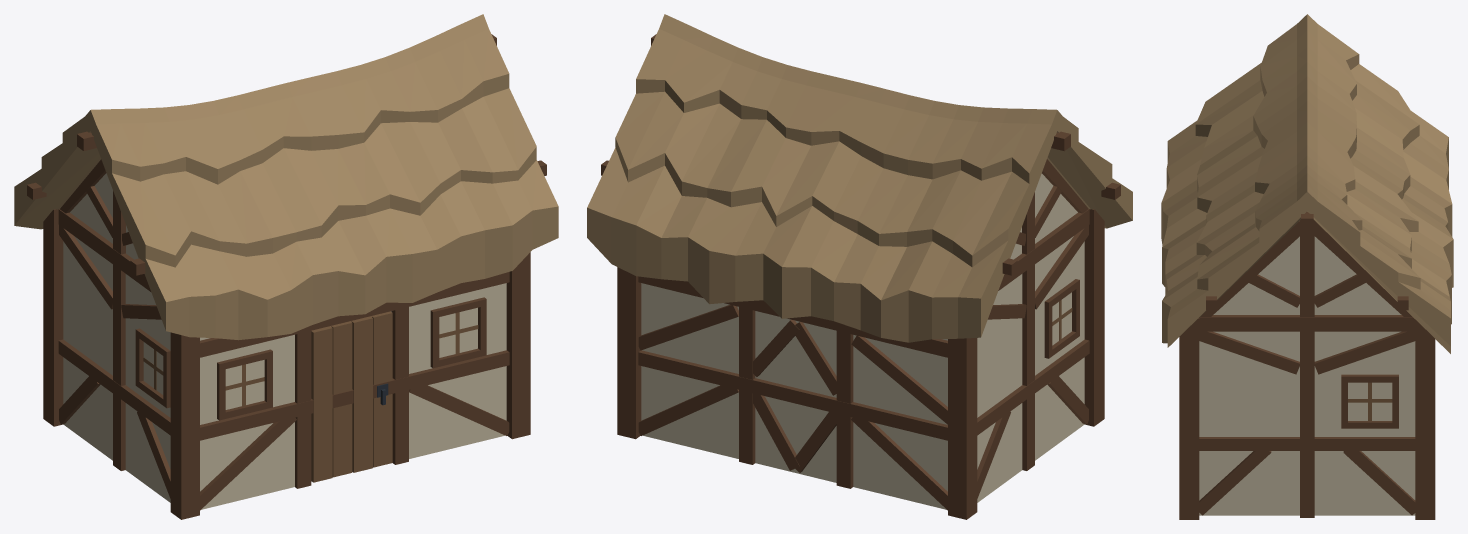
The model's file is thatched-cottage.glb.
3 views of the same model, side by side, from view 1: azimuth 30°, elevation 25°; view 2: azimuth 150°, elevation 25°; view 3: azimuth 270°, elevation 25° (orthographic). The views are drawn at different scales.
Parts seen in each view (by area): view 1: cottage-shell, door-leaf; view 2: cottage-shell; view 3: cottage-shell.
Boxes of the visible parts, left/top/right/bottom form: cottage-shell: left=14, top=14, right=558, bottom=519; door-leaf: left=311, top=311, right=392, bottom=482; cottage-shell: left=587, top=14, right=1132, bottom=519; cottage-shell: left=1161, top=14, right=1453, bottom=519.
Size of the model in its own units: 6 by 5.06 by 3.97.
